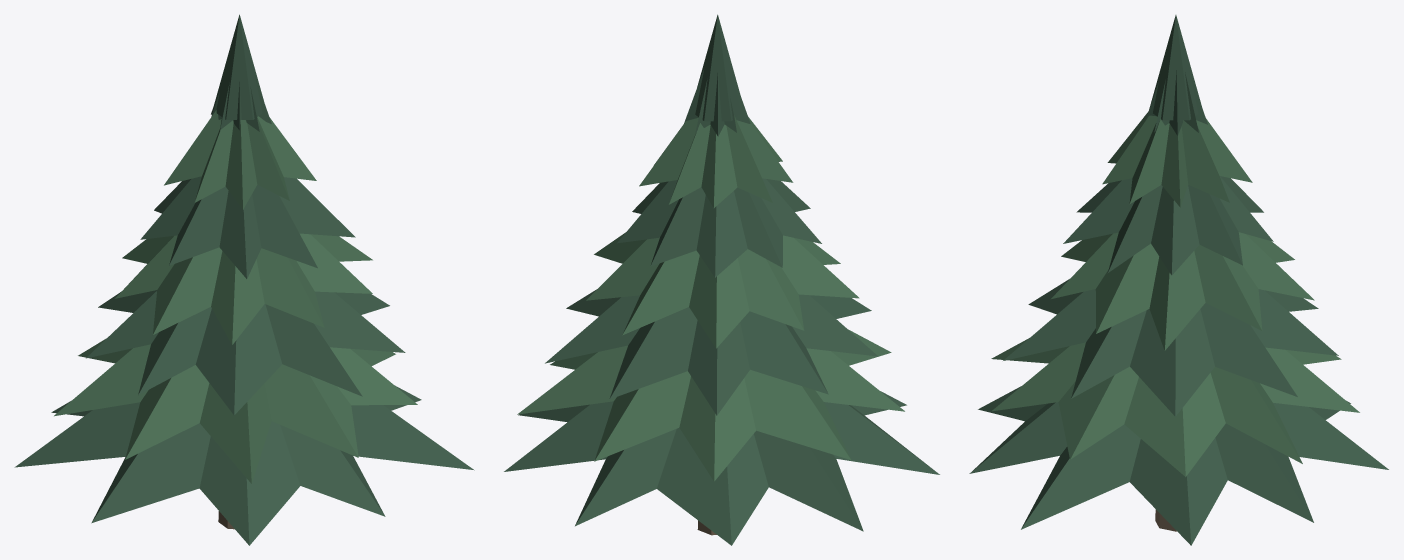
File: v_tree_spruce2.glb
The picture shows the model from 3 angles, left to right: view 1: azimuth 30°, elevation 25°; view 2: azimuth 150°, elevation 25°; view 3: azimuth 270°, elevation 25°; orthographic projection.
Parts seen in each view (by area): view 1: Spruce; view 2: Spruce; view 3: Spruce.
Part boxes in pixels (box(x1,y1,x2,y2)): Spruce: box(14, 14, 474, 545); Spruce: box(504, 14, 939, 545); Spruce: box(969, 15, 1388, 545).
Size of what is drawn, in the model's own units: 4.49 by 5.8 by 4.35.
